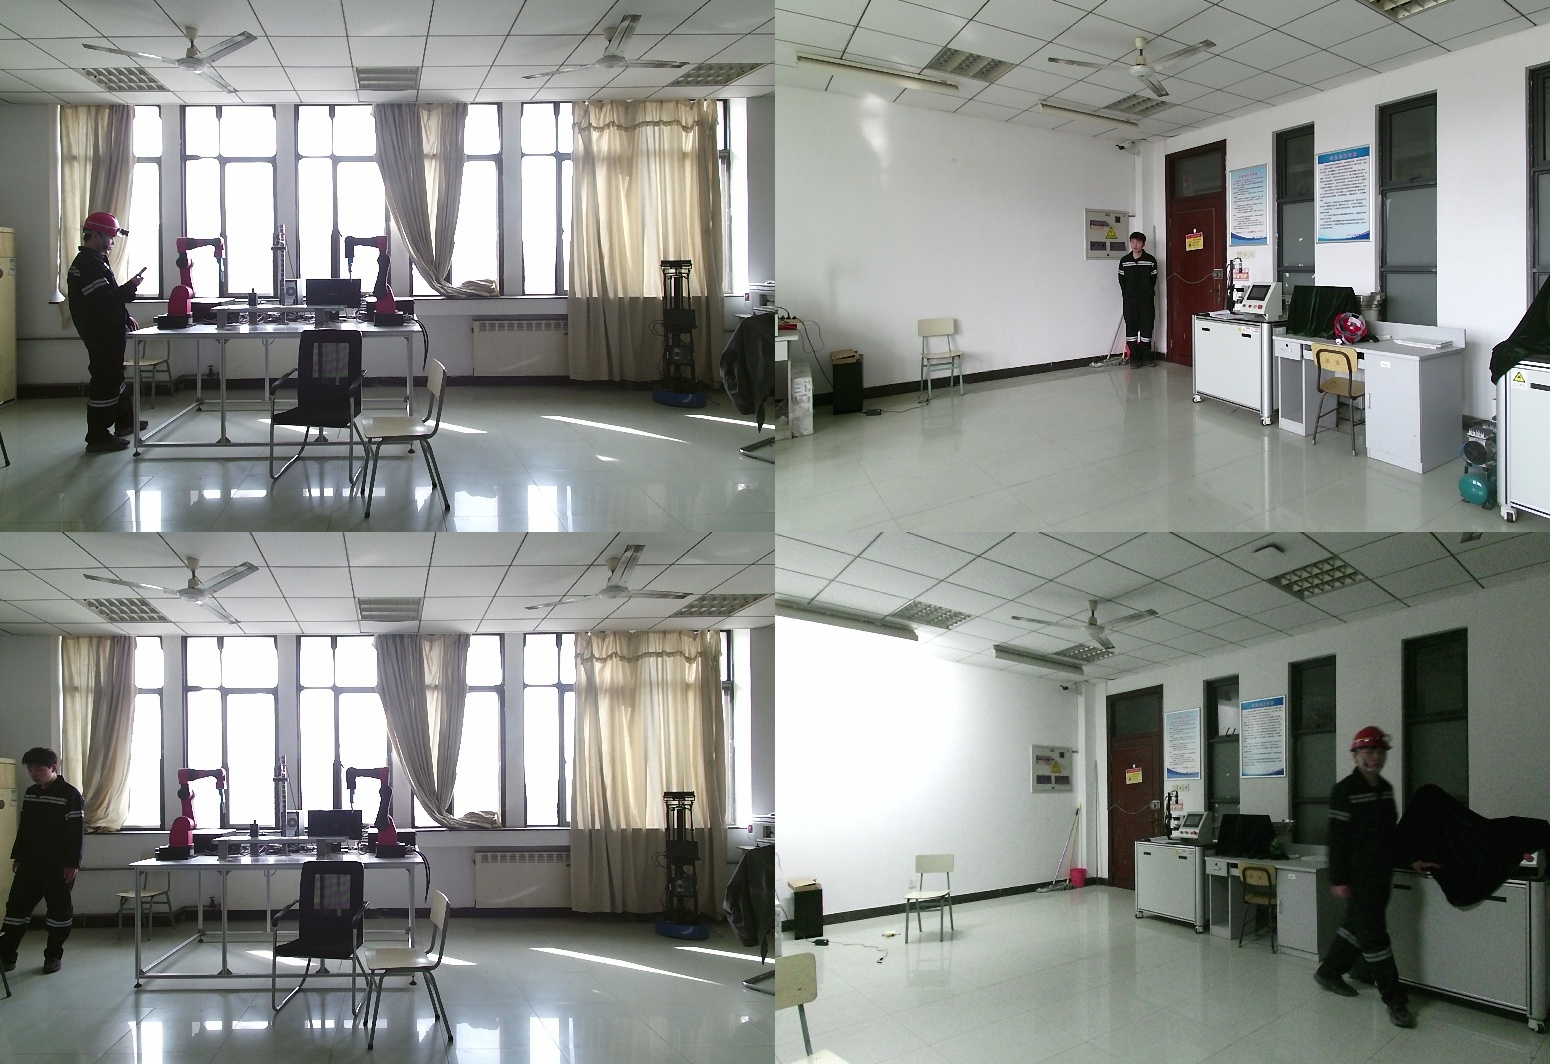person: (1308, 728, 1432, 1026), (1, 747, 91, 973), (67, 214, 144, 454), (1116, 232, 1161, 370)
